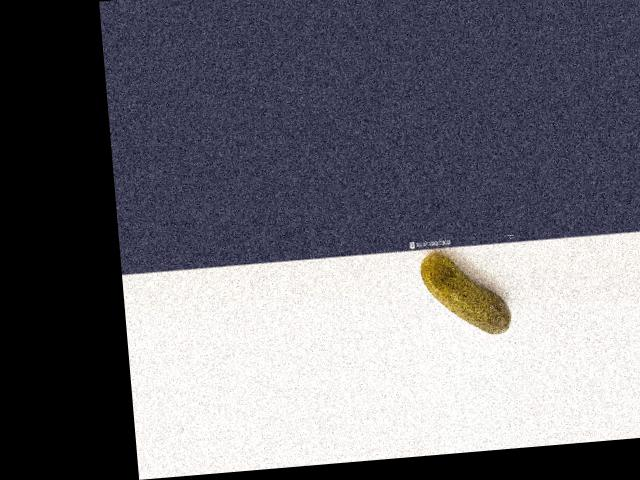cucumber: (419, 247, 513, 339)
